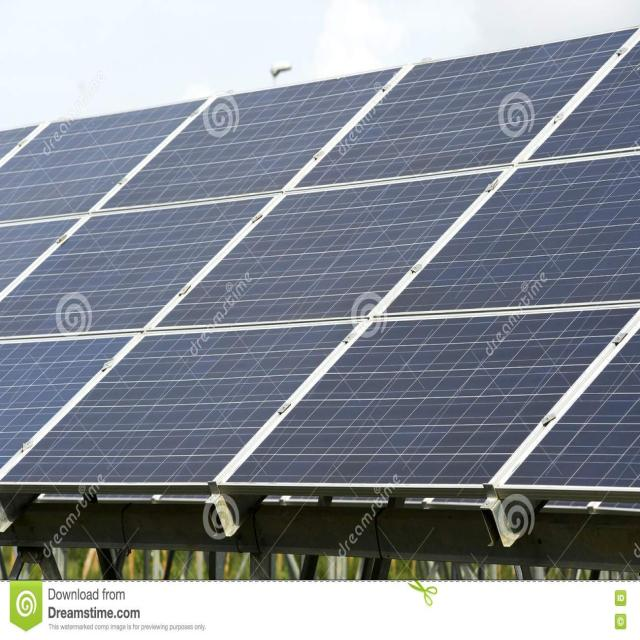dust-solar-panel: (0, 29, 640, 579)
